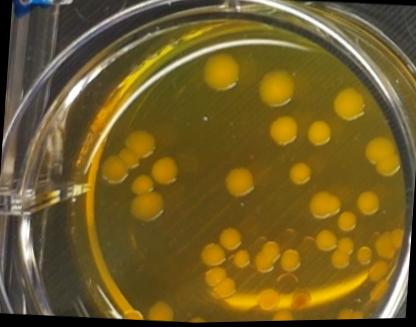vharveyi: (264, 110, 301, 151), (126, 188, 164, 225), (221, 165, 256, 201), (150, 154, 183, 188), (284, 156, 314, 188)
